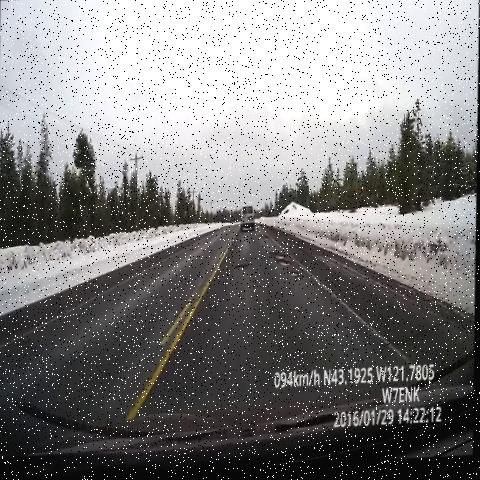pothole: (264, 247, 293, 274), (283, 268, 307, 288), (234, 262, 253, 281), (256, 232, 276, 250)
